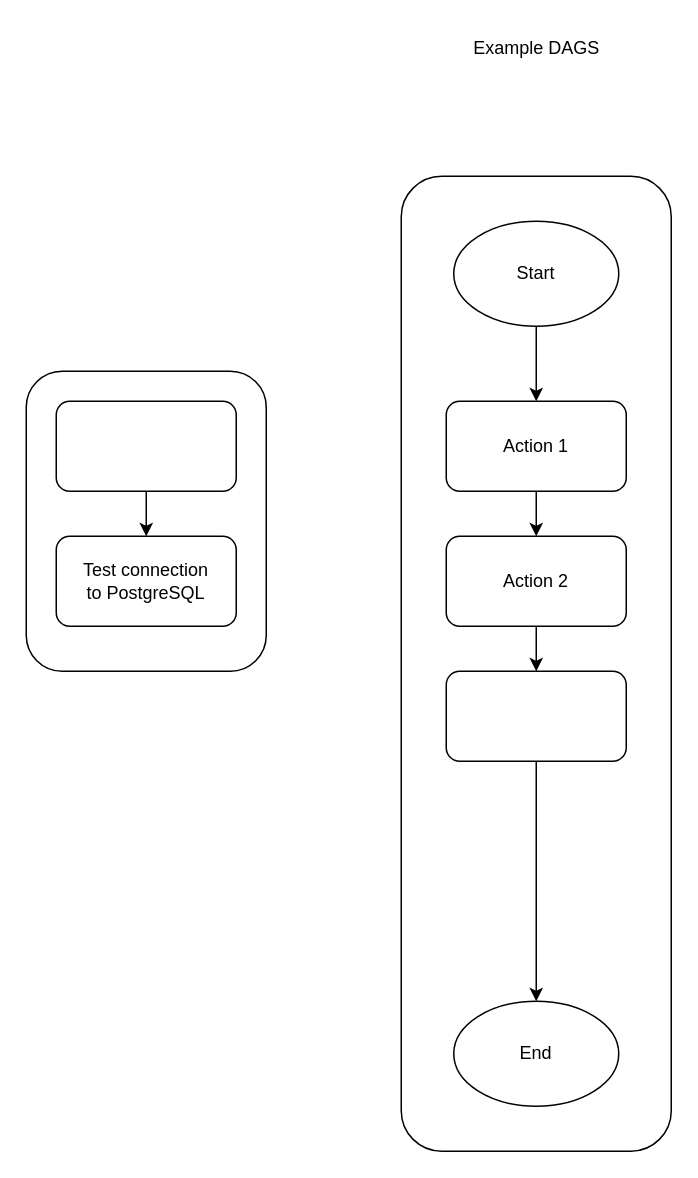
This 698x1178 diagram has some shape labels left out. The shapes that lost their labels are listed below. From the top down, each one's box as (x1, y1, x2, y2) in pixels, then its label:
(55, 400, 236, 491): Load Secret in Memory
(445, 670, 626, 761): Action 3
